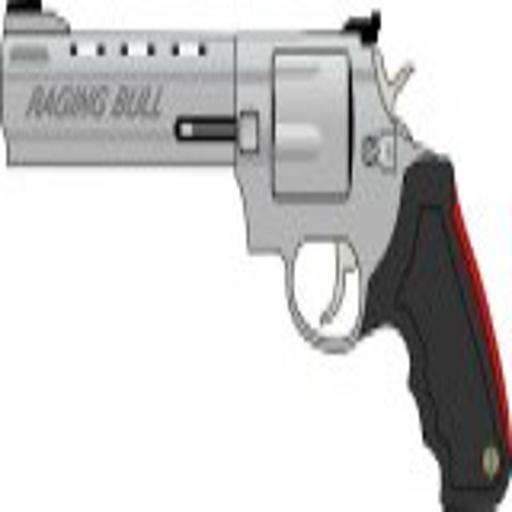Handgun: (2, 3, 507, 502)
